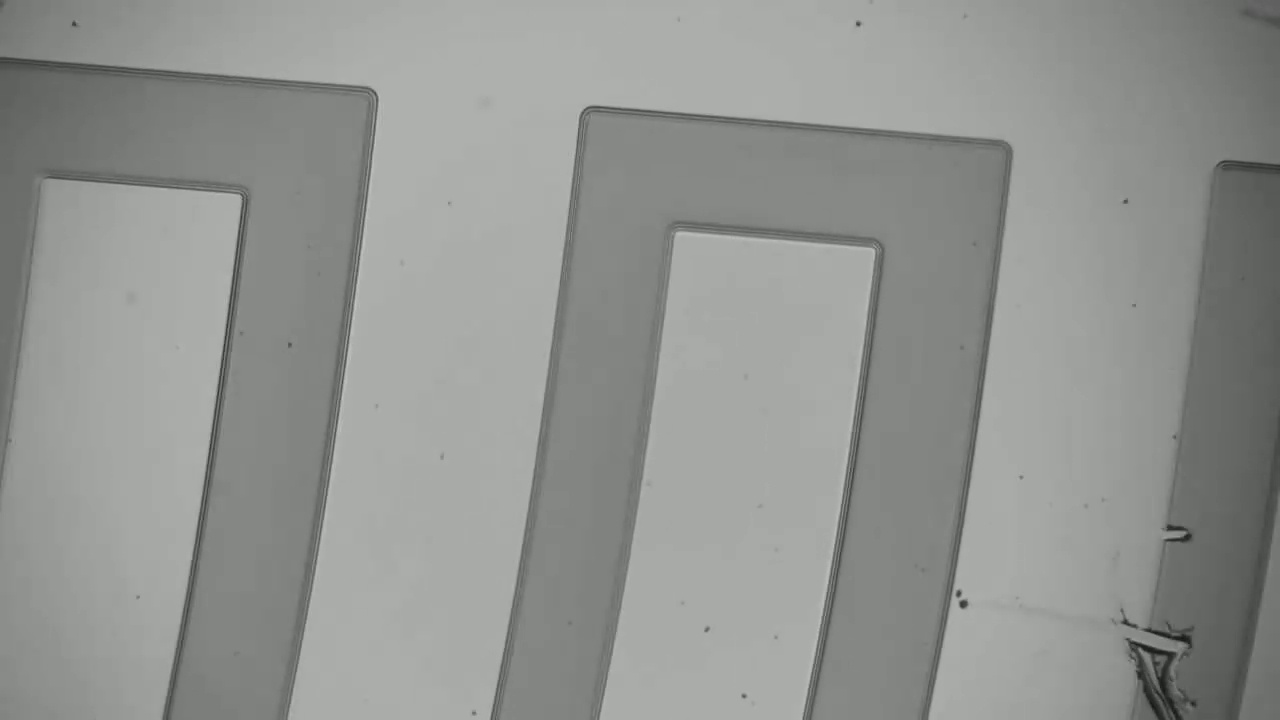Short_circuit: (1115, 614, 1270, 680)
